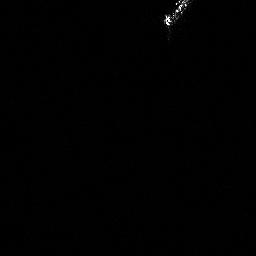ship: (161, 1, 198, 30)
